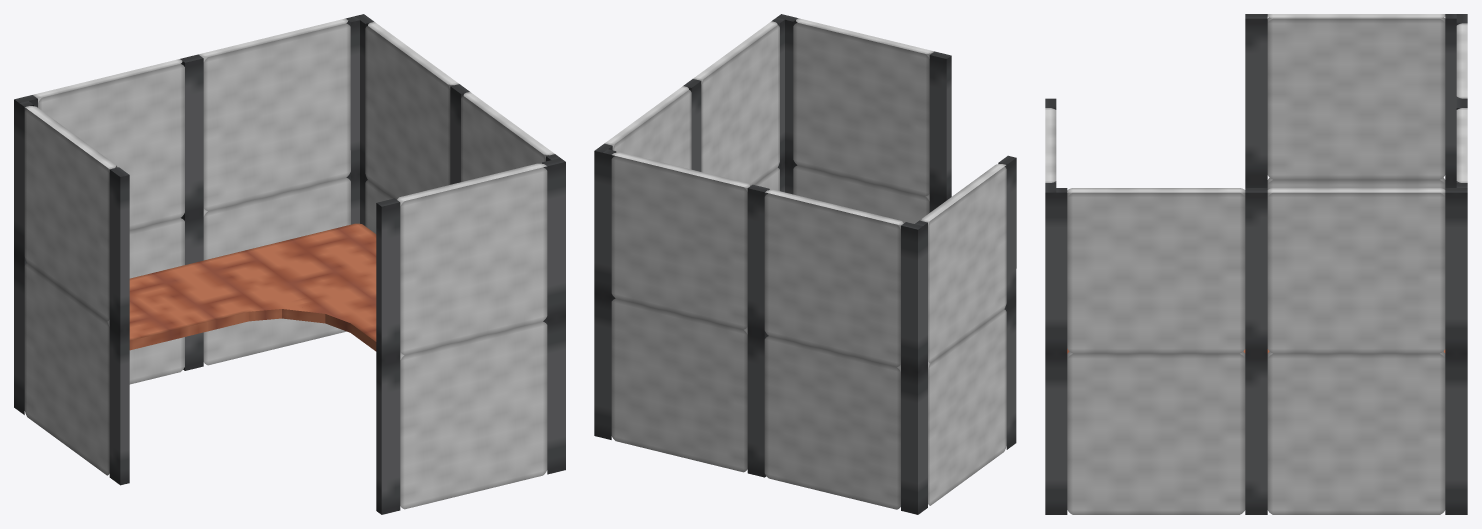
The model's file is cubicalFINALFINAL.fbx.
The picture shows the model from 3 angles, left to right: view 1: azimuth 30°, elevation 25°; view 2: azimuth 150°, elevation 25°; view 3: azimuth 270°, elevation 25°; orthographic projection. The views are drawn at different scales.
Visible parts, largest first — view 1: cubical; view 2: cubical; view 3: cubical.
Boxes of the visible parts, x1,y1,x2,y2 form: cubical: (14, 14, 565, 514); cubical: (594, 14, 1016, 514); cubical: (1045, 14, 1467, 514).
Bounding box in the file's own units: 238 × 200 × 238.
